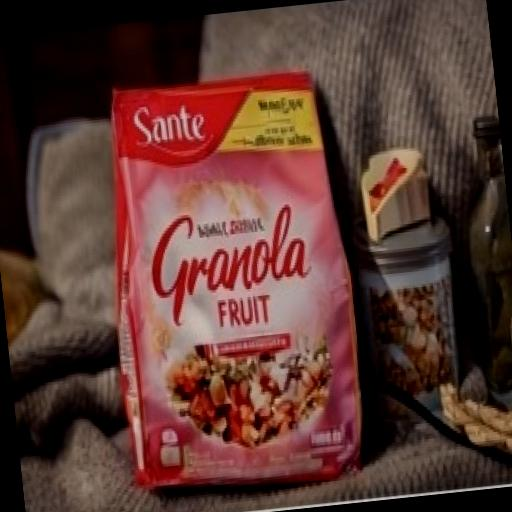granola: (63, 27, 428, 512)
